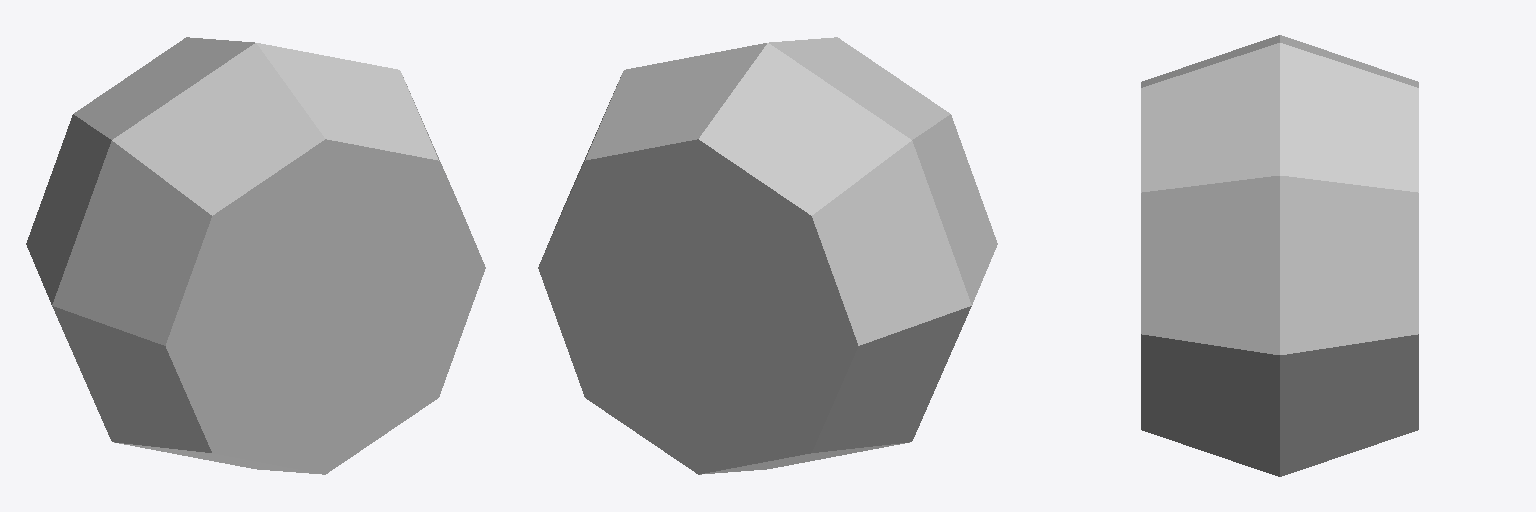
Rendered from pneu_g.obj.
The picture shows the model from 3 angles: view 1: azimuth 30°, elevation 25°; view 2: azimuth 150°, elevation 25°; view 3: azimuth 270°, elevation 25°; orthographic projection.
Visible parts, largest first — view 1: roue_av_g; view 2: roue_av_g; view 3: roue_av_g.
Boxes of the visible parts, <box> form: roue_av_g: <box>26,37,485,474</box>; roue_av_g: <box>538,37,997,474</box>; roue_av_g: <box>1141,35,1418,476</box>.
Bounding box in the file's own units: 1.01 × 1.01 × 0.596.